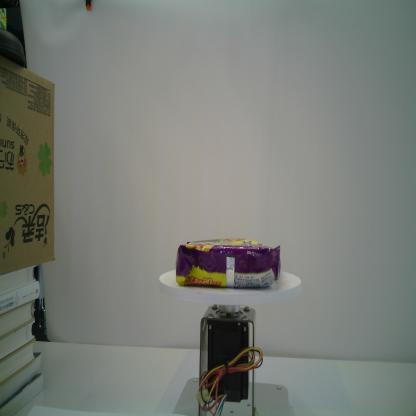Instant Noodles: (175, 237, 282, 290)
